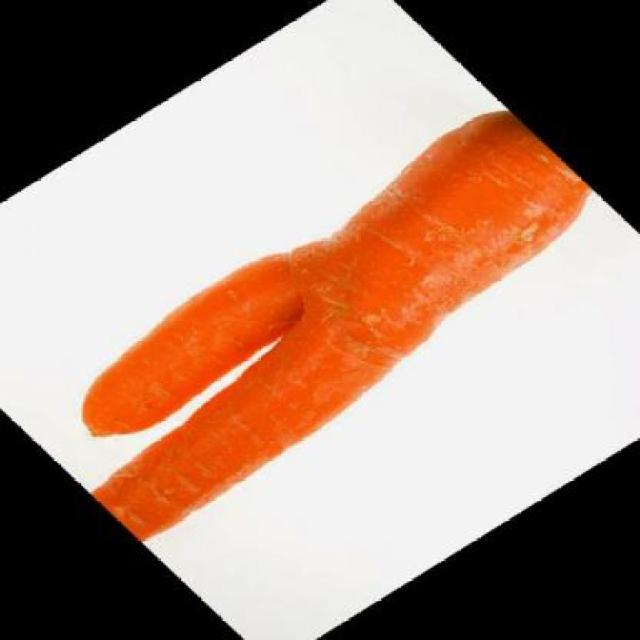carrot: (0, 98, 638, 544)
